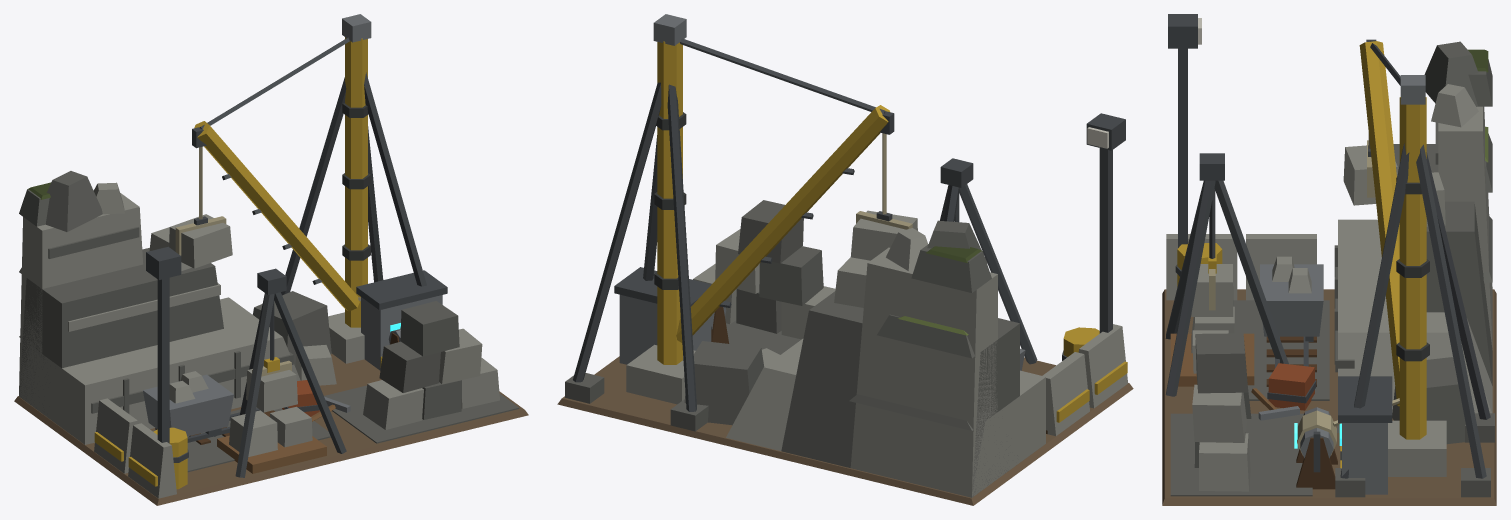
Rendered from quarry_l3.glb.
The picture shows the model from 3 angles, left to right: view 1: azimuth 30°, elevation 25°; view 2: azimuth 150°, elevation 25°; view 3: azimuth 270°, elevation 25°; orthographic projection. The views are drawn at different scales.
Visible parts, largest first — view 1: quarry_rock, quarry_props, quarry_derrick; view 2: quarry_rock, quarry_derrick, quarry_props; view 3: quarry_derrick, quarry_props, quarry_rock.
Part boxes in pixels (x1=…): quarry_rock: x1=19, y1=171, x2=336, y2=444; quarry_props: x1=94, y1=127, x2=499, y2=498; quarry_derrick: x1=14, y1=14, x2=528, y2=505; quarry_rock: x1=684, y1=220, x2=1045, y2=497; quarry_derrick: x1=557, y1=14, x2=1133, y2=505; quarry_props: x1=614, y1=111, x2=1127, y2=436; quarry_derrick: x1=1162, y1=41, x2=1496, y2=505; quarry_props: x1=1166, y1=14, x2=1399, y2=494; quarry_rock: x1=1334, y1=41, x2=1492, y2=444.
Bounding box in the file's own units: 6 × 5.12 × 4.
